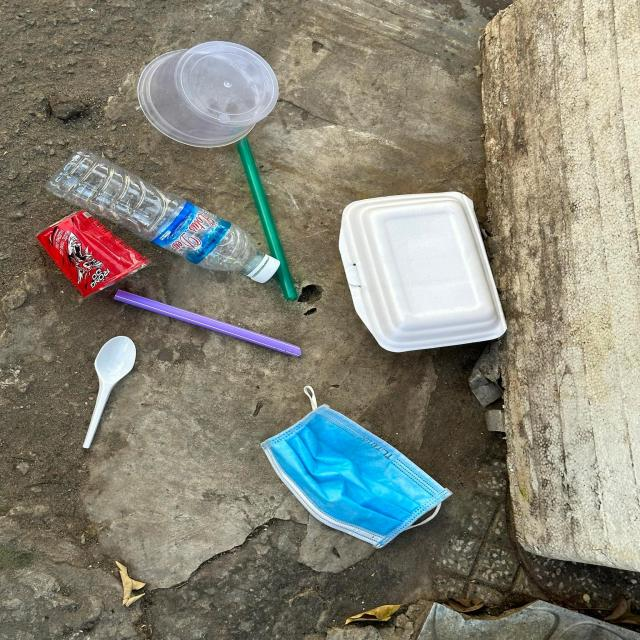bottle: (46, 151, 278, 283)
drinking straw: (114, 291, 302, 358), (238, 137, 298, 301)
foam box: (340, 193, 506, 354)
mask: (262, 384, 453, 548)
plastic holder: (137, 42, 277, 150)
plastic utensil: (82, 337, 135, 449)
